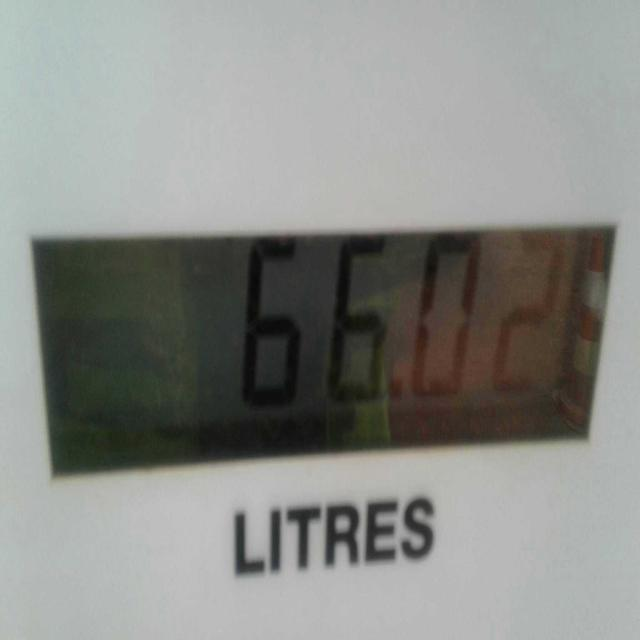.: (378, 358, 411, 423)
0: (408, 221, 477, 408)
2: (494, 226, 570, 419)
6: (228, 232, 324, 422), (322, 218, 388, 420)
